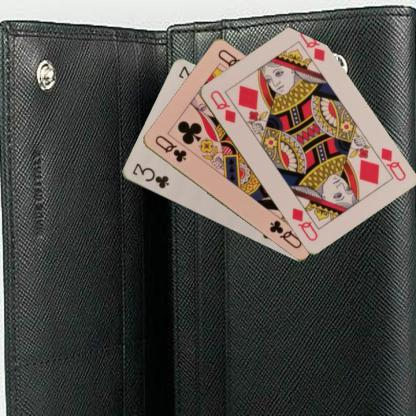3c: (130, 161, 170, 190)
Qc: (152, 132, 188, 164)
Qd: (370, 144, 407, 182), (207, 87, 237, 124)
